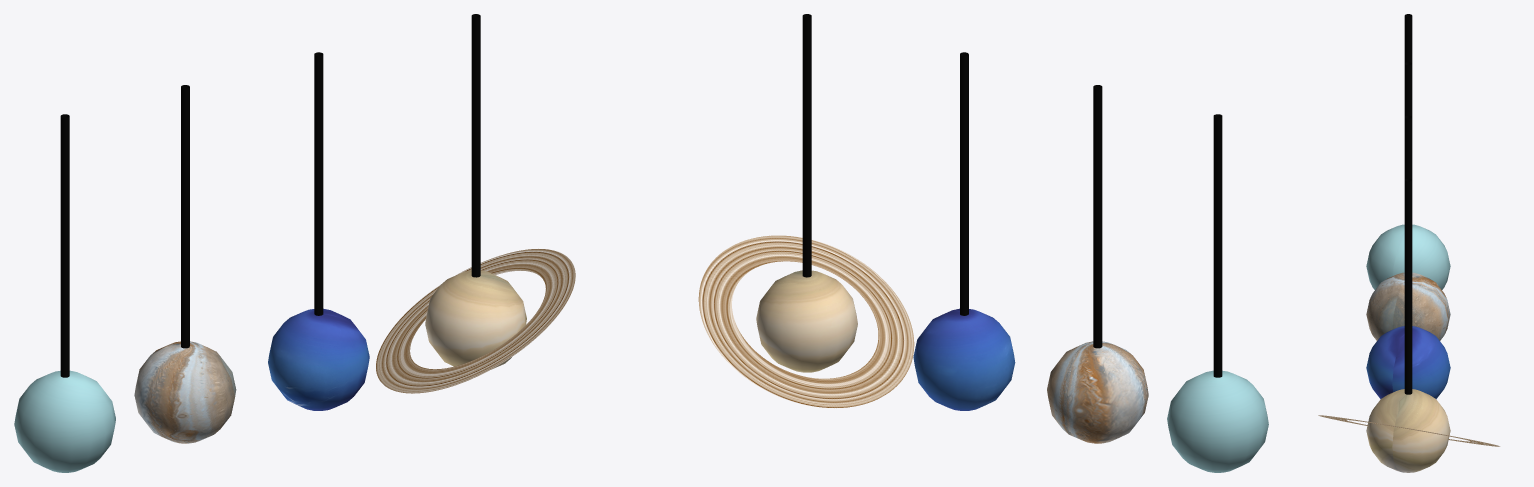
File: Jupiter - Neptune.fbx
3 renders of one model, left to right at view 1: azimuth 30°, elevation 25°; view 2: azimuth 150°, elevation 25°; view 3: azimuth 270°, elevation 25°, orthographic. The views are drawn at different scales.
Visible parts, largest first — view 1: Sphere.003, Sphere.002, Sphere.001, Sphere; view 2: Sphere.003, Sphere, Sphere.002, Sphere.001; view 3: Sphere.003, Sphere.001, Sphere, Sphere.002.
Boxes of the visible parts, x1,y1,x2,y2 form: Sphere.003: (376,14,575,393); Sphere.002: (14,114,115,472); Sphere.001: (268,52,369,410); Sphere: (134,85,236,443); Sphere.003: (698,14,914,407); Sphere: (1047,85,1148,443); Sphere.002: (1167,114,1268,472); Sphere.001: (913,52,1015,410); Sphere.003: (1318,178,1500,472); Sphere.001: (1366,115,1450,399); Sphere: (1366,62,1450,340); Sphere.002: (1366,14,1450,289).
Size of the model in its own units: 319 by 197 by 132.
Materials: 1 (1 with a texture image).
